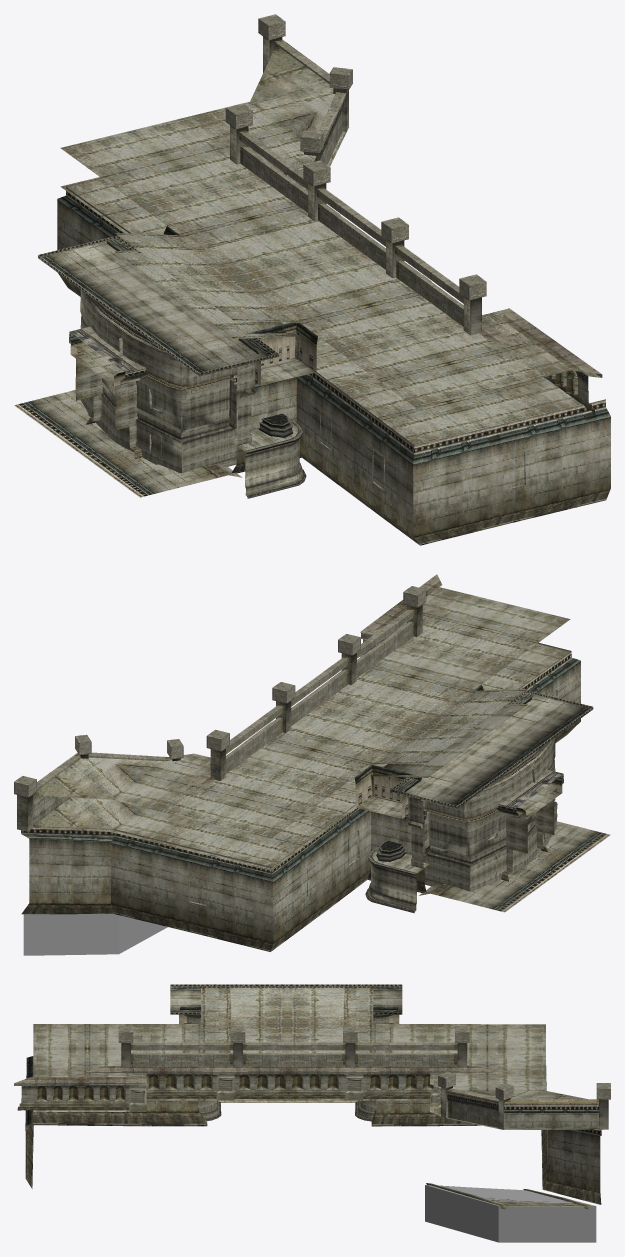
Rendered from fangzhi.fbx.
3 renders of one model, top to bottom at view 1: azimuth 30°, elevation 25°; view 2: azimuth 150°, elevation 25°; view 3: azimuth 270°, elevation 25°, orthographic. The views are drawn at different scales.
Visible parts, largest first — view 1: polySurface11; view 2: polySurface11, BOX; view 3: polySurface11, BOX, jieti.
Boxes of the visible parts, x1,y1,x2,y2 form: polySurface11: [14, 14, 610, 545]; polySurface11: [14, 574, 610, 951]; BOX: [23, 914, 167, 955]; polySurface11: [14, 984, 610, 1204]; BOX: [425, 1185, 596, 1242]; jieti: [426, 1183, 591, 1209].
Bounding box in the file's own units: 112 × 61.07 × 190.
